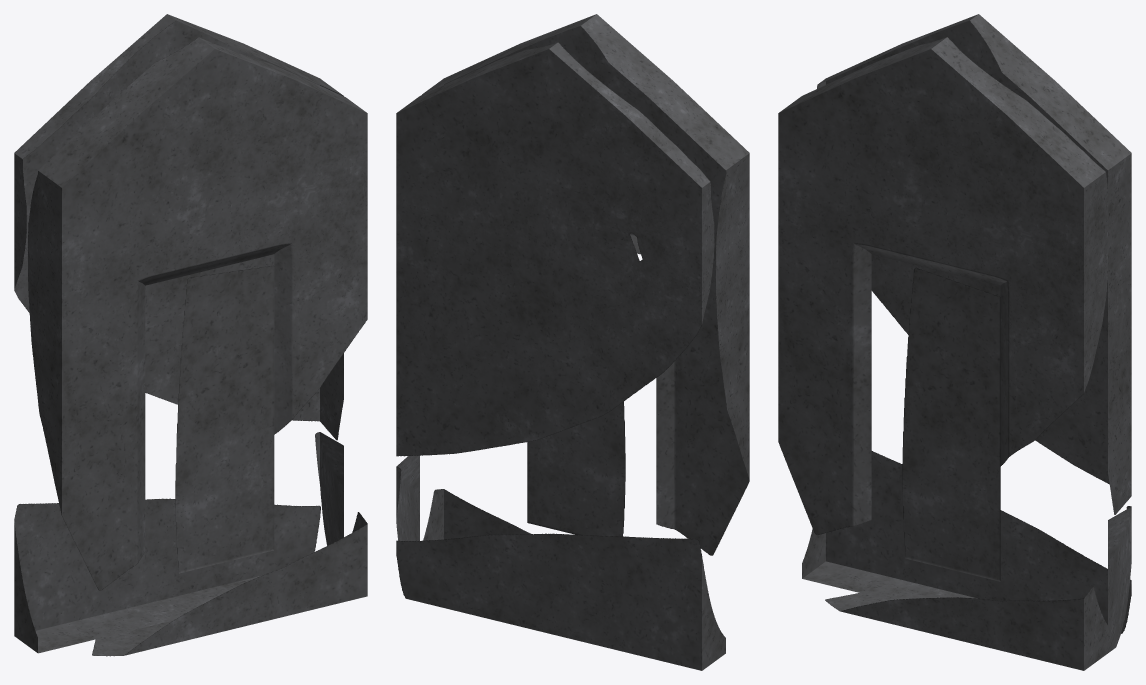
Rendered from stone_08.fbx.
3 renders of one model, left to right at view 1: azimuth 30°, elevation 25°; view 2: azimuth 150°, elevation 25°; view 3: azimuth 330°, elevation 25°, orthographic.
Parts seen in each view (by area): view 1: stone_08; view 2: stone_08; view 3: stone_08.
Boxes of the visible parts, left/top/right/bottom form: stone_08: left=14, top=14, right=367, bottom=656; stone_08: left=396, top=14, right=749, bottom=670; stone_08: left=778, top=14, right=1131, bottom=670.
Bounding box in the file's own units: 70.13 × 128 × 19.
